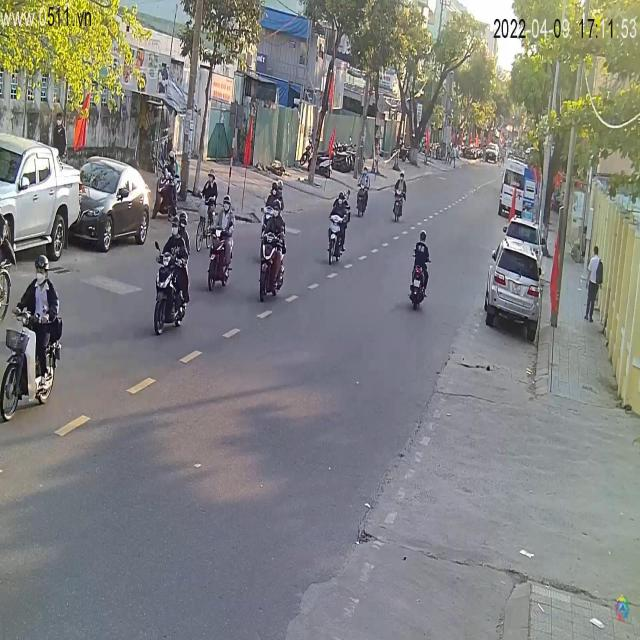car: (1, 124, 82, 262), (72, 157, 154, 253), (485, 237, 541, 341)
motorcycle: (0, 289, 68, 425), (149, 235, 191, 334), (206, 212, 238, 292), (259, 221, 287, 301), (409, 266, 430, 311), (328, 220, 348, 266), (392, 176, 407, 228), (355, 177, 372, 219)
